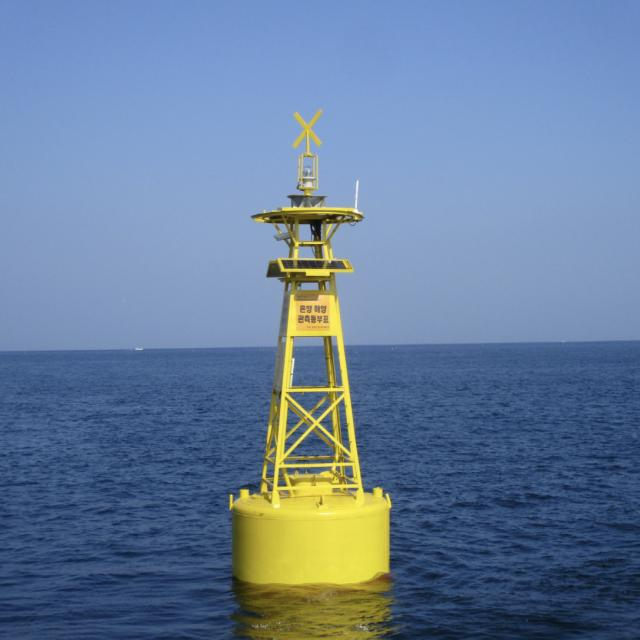marque: (205, 102, 413, 602)
